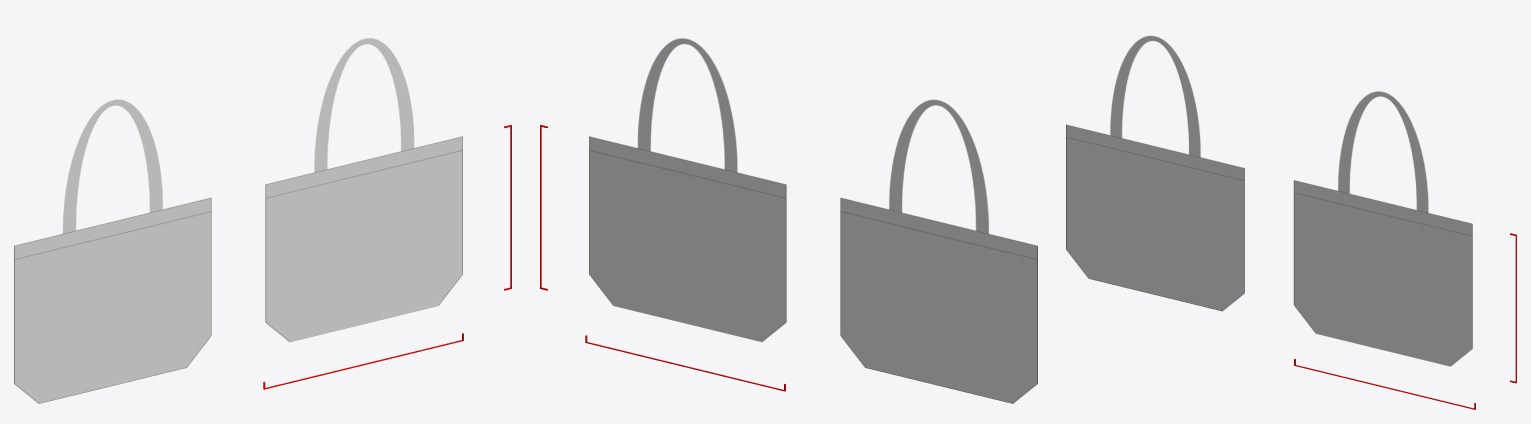
The model's file is 无纺布袋-有底无侧.glb.
3 renders of one model, left to right at view 1: azimuth 30°, elevation 25°; view 2: azimuth 150°, elevation 25°; view 3: azimuth 330°, elevation 25°, orthographic. The views are drawn at different scales.
Visible parts, largest first — view 1: bag, w; view 2: bag, w; view 3: bag.
Boxes of the visible parts, left/top/right/bottom form: bag: left=14, top=38, right=462, bottom=403; w: left=263, top=333, right=463, bottom=389; bag: left=589, top=38, right=1037, bottom=403; w: left=585, top=335, right=785, bottom=391; bag: left=1066, top=36, right=1472, bottom=366.
Bounding box in the file's own units: 0.7402 × 0.4661 × 0.00545.
2 materials, 1 textured.
